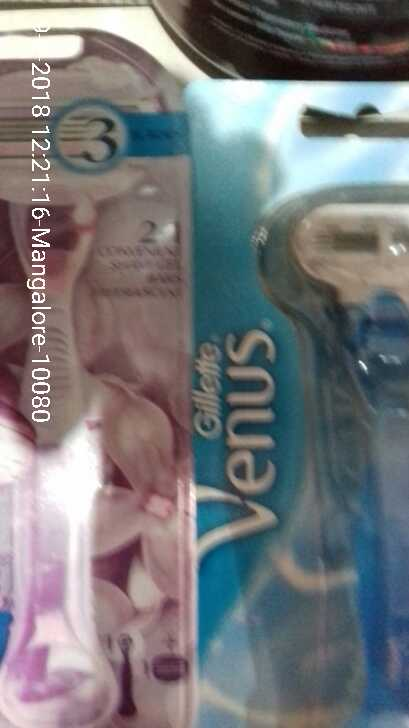venus: (197, 91, 409, 711), (1, 88, 183, 720)
